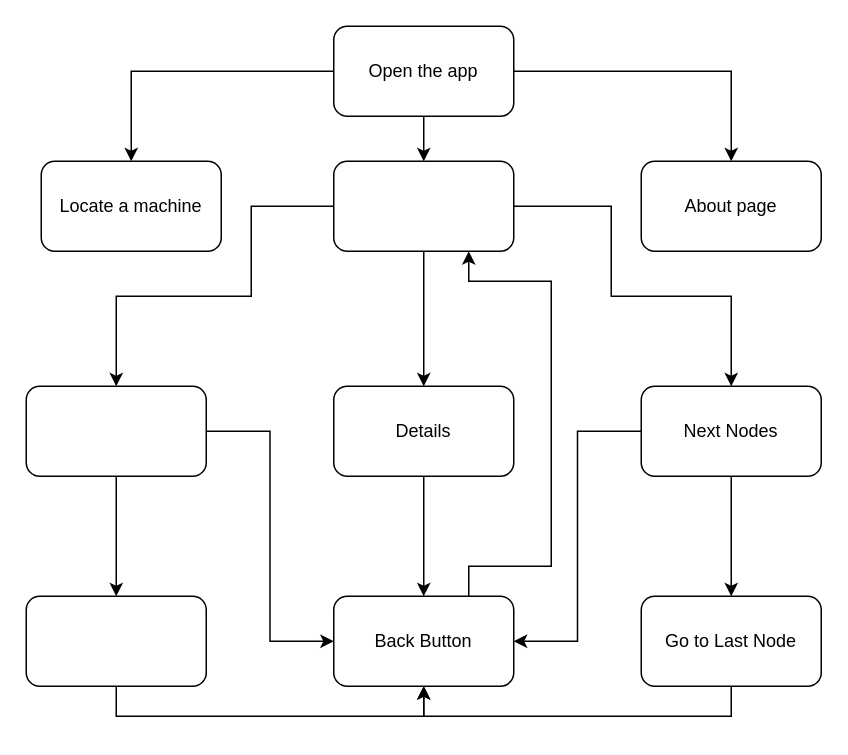
This 848x755 diagram has some shape labels left out. Here are the shapes that lost their labels. From the top down, the centre of each, then its label:
At point (423, 205): "Scan the QR code".
At point (115, 430): "Previous Nodes".
At point (115, 640): "Go to First Node".
